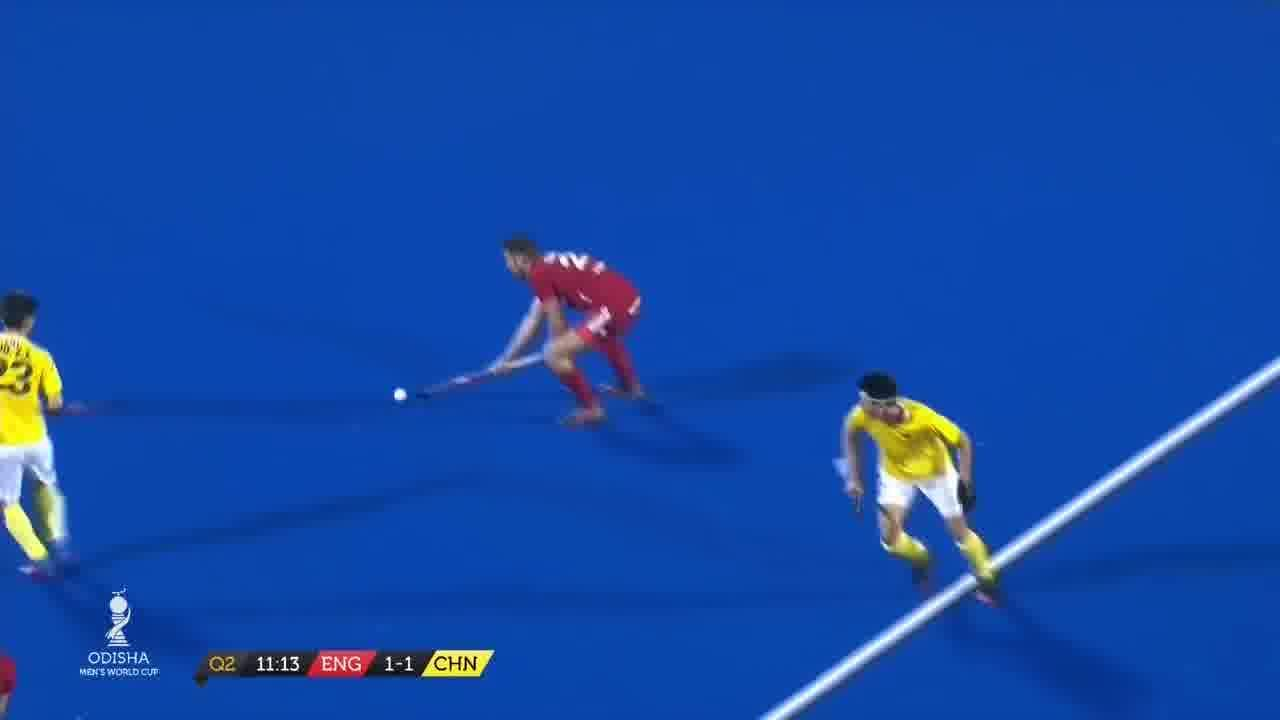ball: (388, 383, 414, 412)
